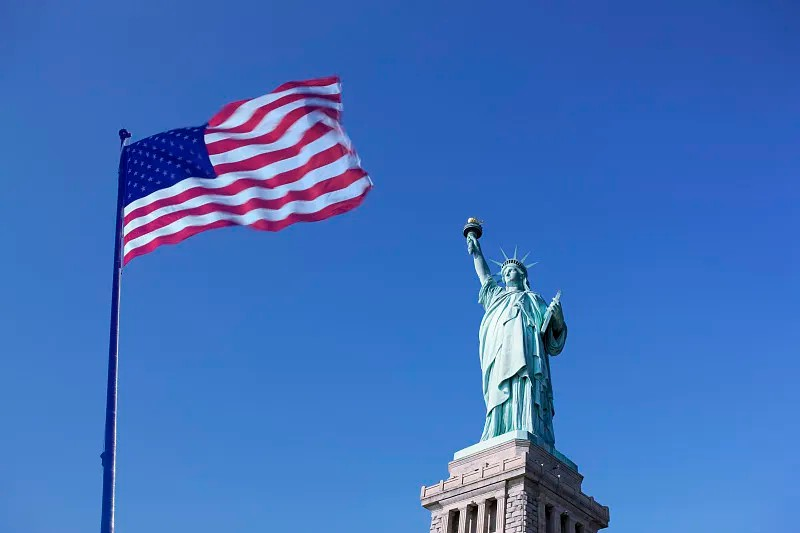SL: (419, 217, 611, 532)
